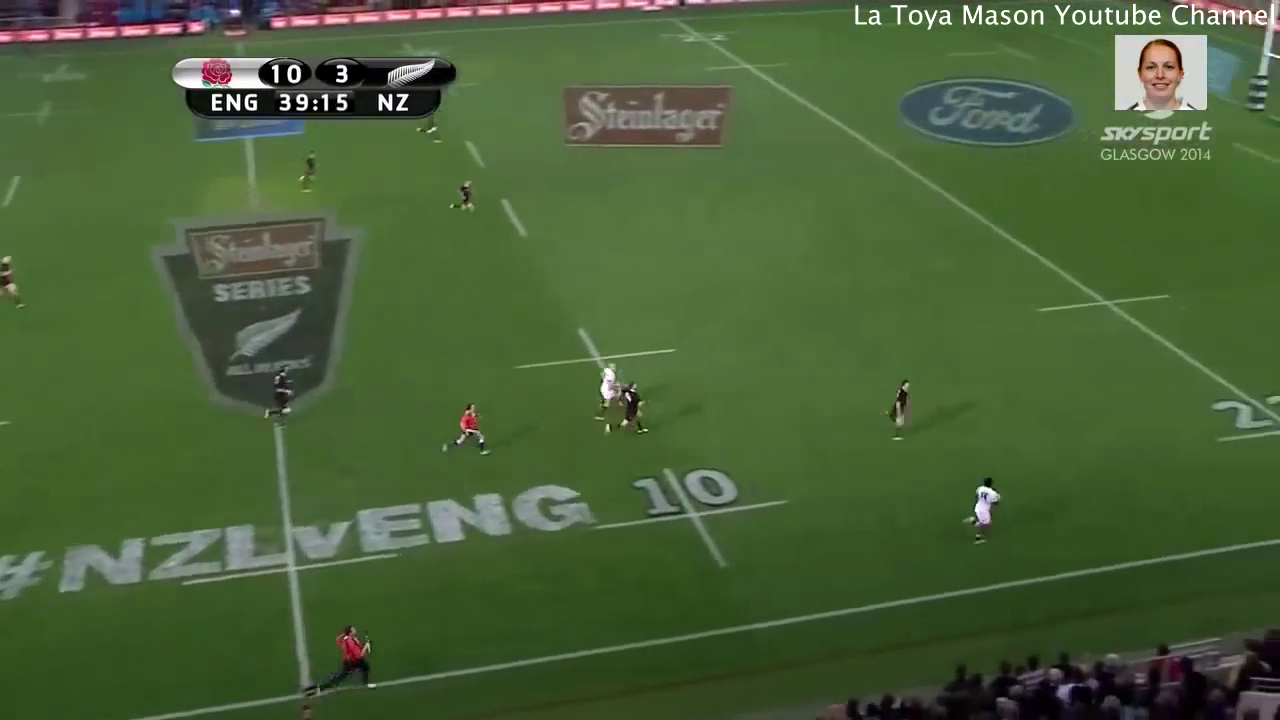10_metre: (587, 457, 801, 579), (504, 324, 681, 395), (1, 95, 99, 133), (5, 62, 111, 88)
player: (307, 618, 382, 694), (872, 367, 923, 450), (432, 396, 493, 464), (958, 472, 1006, 551), (258, 360, 302, 431), (602, 377, 650, 436), (592, 355, 621, 427), (289, 145, 326, 195), (444, 176, 483, 220), (1, 248, 25, 312), (420, 104, 446, 150)
